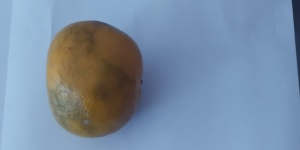BAD: (46, 18, 150, 139)
